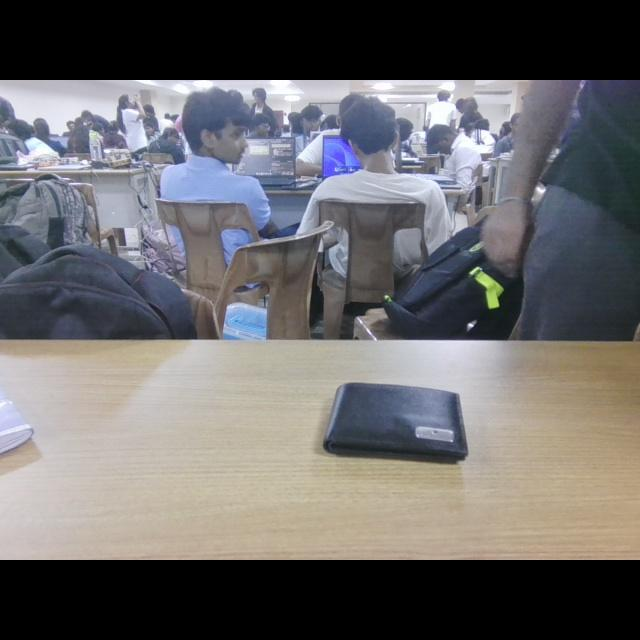wallet: (322, 365, 484, 479)
